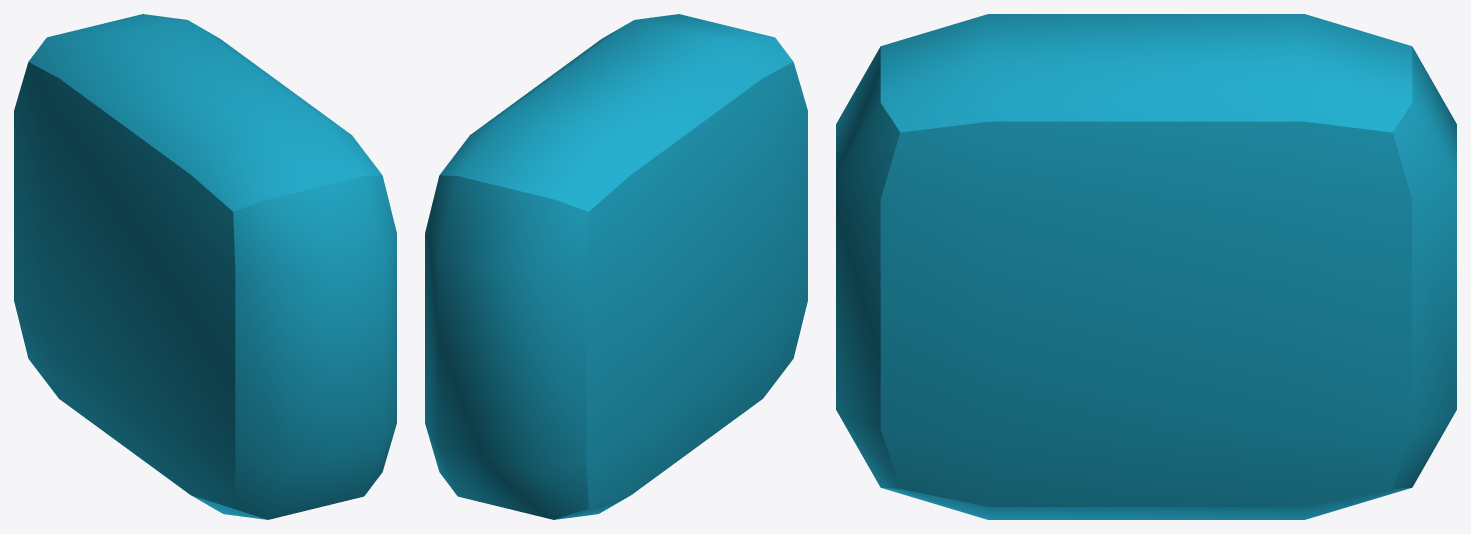
Rendered from jendela.obj.
3 views of the same model, side by side, from view 1: azimuth 30°, elevation 25°; view 2: azimuth 150°, elevation 25°; view 3: azimuth 270°, elevation 25° (orthographic). The views are drawn at different scales.
Visible parts, largest first — view 1: jendela; view 2: jendela; view 3: jendela.
Boxes of the visible parts, <box> form: jendela: <box>14,14,396,519</box>; jendela: <box>425,14,807,519</box>; jendela: <box>836,14,1456,519</box>.
Bounding box in the file's own units: 0.4533 × 0.8604 × 1.08.
